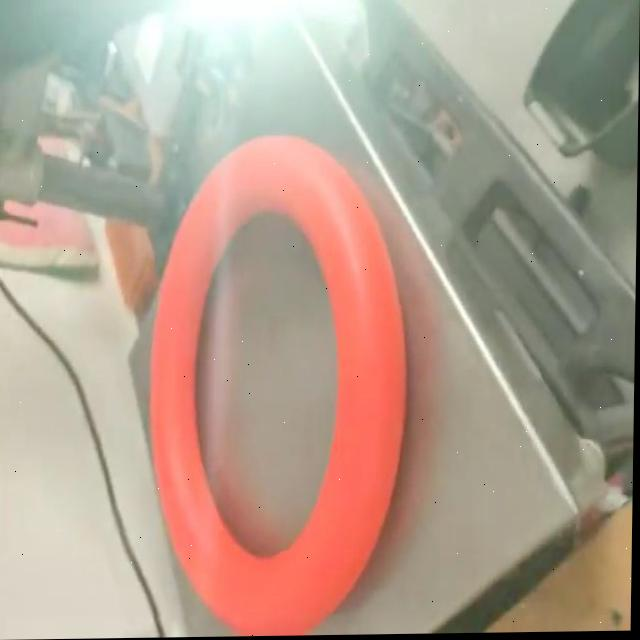note: (142, 128, 415, 638)
